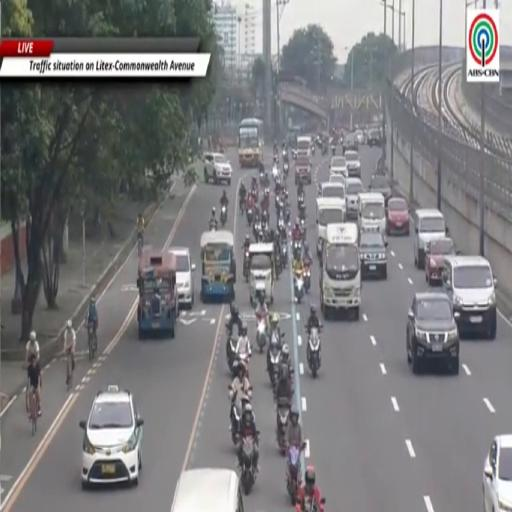bus: (239, 118, 263, 167)
car: (80, 386, 143, 488), (442, 255, 497, 340), (406, 292, 459, 374), (483, 435, 511, 511), (169, 247, 195, 309), (425, 237, 455, 285), (360, 231, 387, 279), (203, 153, 232, 185), (387, 198, 410, 235), (346, 178, 363, 220), (369, 174, 392, 204), (345, 151, 360, 178), (329, 156, 347, 177), (343, 134, 358, 153), (367, 128, 381, 147), (329, 174, 345, 184), (355, 130, 364, 145)
jeepney: (137, 247, 179, 339), (201, 231, 236, 301), (249, 244, 275, 307), (295, 156, 311, 185)
motorcycle: (230, 387, 251, 444), (287, 443, 305, 505), (240, 438, 255, 494), (277, 400, 290, 455), (307, 328, 321, 377), (268, 343, 281, 387), (227, 333, 238, 376), (256, 316, 267, 353), (296, 498, 325, 511), (294, 272, 304, 302), (270, 327, 284, 346), (278, 216, 287, 243), (303, 266, 311, 294), (243, 250, 250, 281), (275, 248, 282, 278), (292, 240, 302, 260), (277, 216, 285, 239), (300, 217, 306, 243), (220, 205, 227, 227), (275, 196, 282, 216), (283, 205, 290, 223), (246, 208, 253, 226), (298, 203, 305, 220), (254, 222, 261, 239), (282, 244, 287, 267), (298, 192, 305, 207), (272, 166, 278, 181), (209, 220, 217, 231), (240, 198, 245, 215), (259, 171, 265, 185), (283, 162, 288, 178), (273, 153, 278, 165), (322, 144, 327, 155), (292, 150, 297, 159), (282, 150, 287, 159), (312, 145, 316, 156), (332, 146, 335, 155)
truck: (320, 222, 360, 319)
